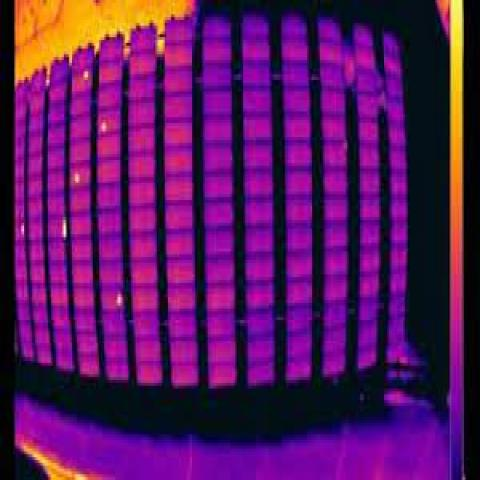fault: (62, 217, 68, 240), (115, 294, 122, 306), (83, 69, 90, 80), (20, 223, 26, 234), (74, 174, 80, 183), (103, 123, 106, 131)
